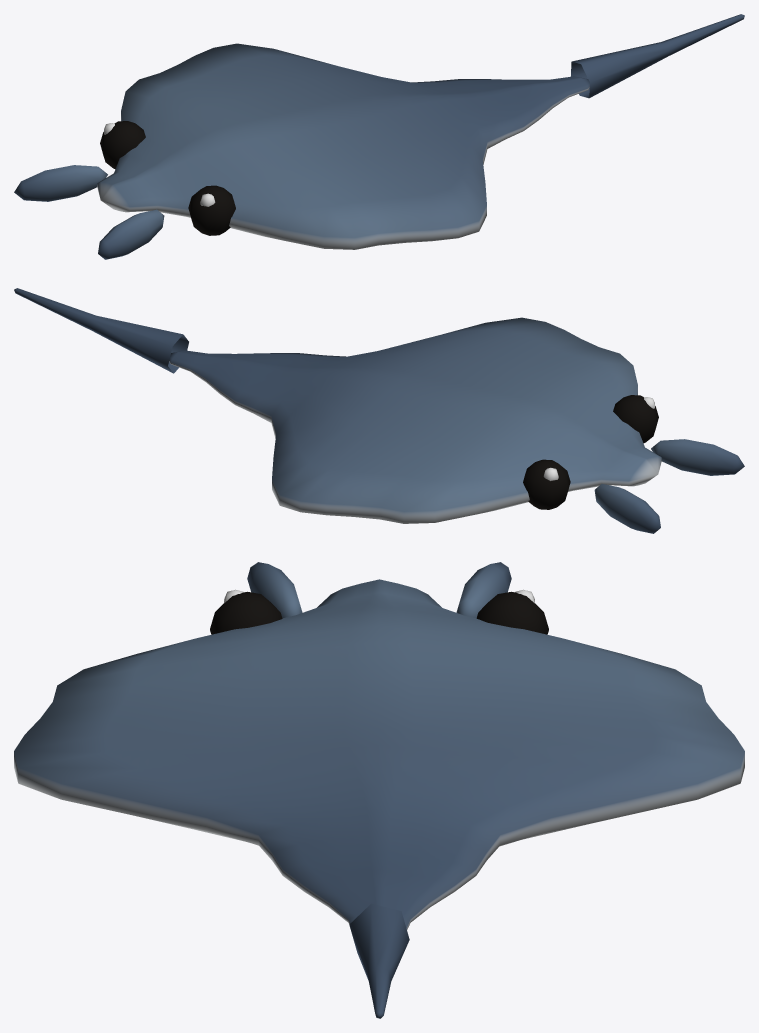
Rendered from Manta_Ray.glb.
3 views of the same model, one above another, from view 1: azimuth 30°, elevation 25°; view 2: azimuth 150°, elevation 25°; view 3: azimuth 270°, elevation 25° (orthographic). The views are drawn at different scales.
Parts seen in each view (by area): view 1: MantaRay; view 2: MantaRay; view 3: MantaRay.
Boxes of the visible parts, x1=… form: MantaRay: x1=14, y1=14, x2=744, y2=259; MantaRay: x1=14, y1=288, x2=744, y2=533; MantaRay: x1=14, y1=562, x2=744, y2=1018.
Bounding box in the file's own units: 1.1 × 0.1072 × 0.6777.
